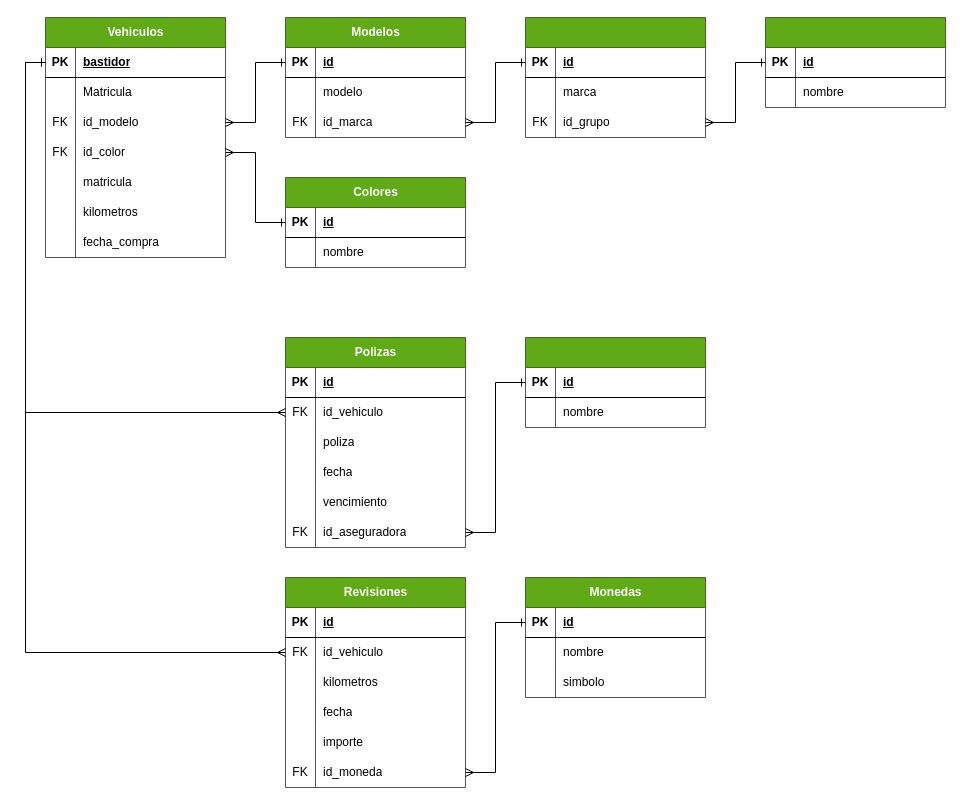
The diagram is 963 pixels wide and 805 high, and some of its shapes have lost their labels. The box of each missing label's shape, as (x1, y1, x2, y2) in pixels:
Aseguradoras: (524, 336, 706, 428)
Grupos: (764, 16, 946, 108)
Marcas: (524, 16, 706, 138)
